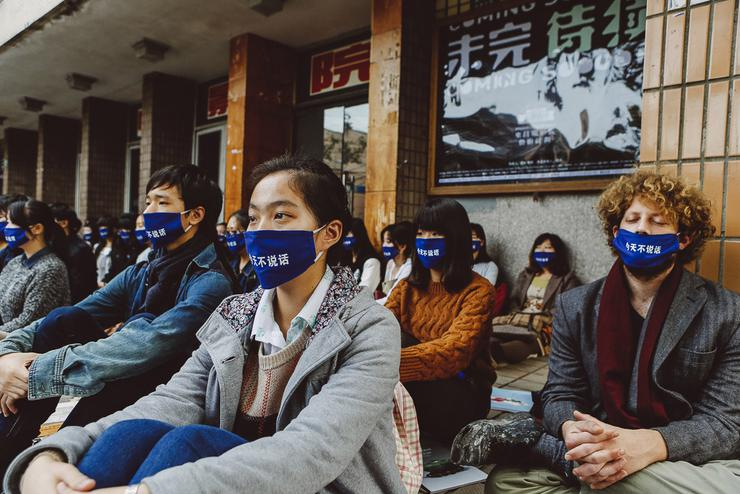OK: (246, 200, 327, 281), (415, 224, 457, 266), (5, 217, 34, 251), (226, 221, 253, 257), (536, 243, 557, 268), (342, 227, 357, 251), (468, 231, 483, 253), (99, 224, 112, 239), (119, 227, 131, 243), (85, 229, 95, 244)
WRONG: (616, 204, 680, 268), (139, 192, 191, 244), (381, 235, 403, 261)
